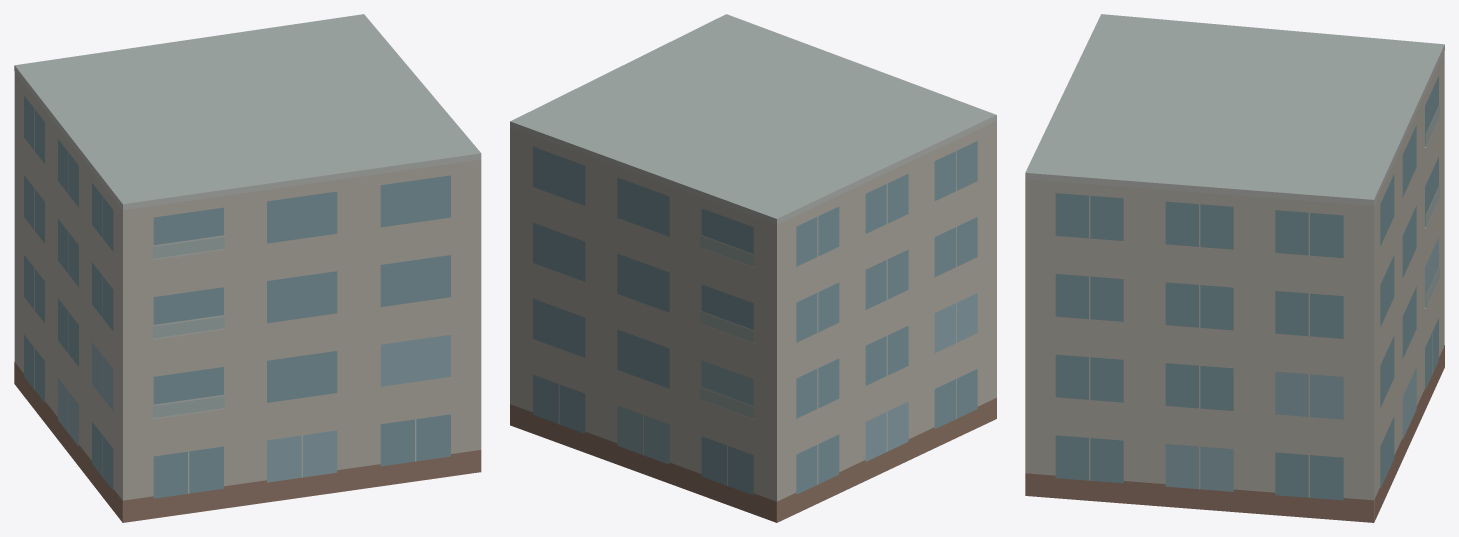
File: survey-upis-32803588.glb
The picture shows the model from 3 angles, left to right: view 1: azimuth 30°, elevation 25°; view 2: azimuth 150°, elevation 25°; view 3: azimuth 270°, elevation 25°; orthographic projection. The views are drawn at different scales.
Parts seen in each view (by area): view 1: survey-upis-32803588.tmp; view 2: survey-upis-32803588.tmp; view 3: survey-upis-32803588.tmp.
Boxes of the visible parts, bbox=[...] form: survey-upis-32803588.tmp: bbox=[14, 14, 481, 522]; survey-upis-32803588.tmp: bbox=[510, 14, 996, 522]; survey-upis-32803588.tmp: bbox=[1025, 14, 1444, 522].
Size of the model in its own units: 15.81 by 12.8 by 15.08.
